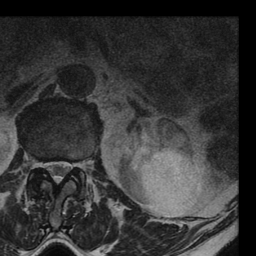CCS_normal: (52, 150, 62, 191)
LFS_stenosis: (72, 152, 81, 177)
LLS_normal: (62, 151, 72, 185)
RFS_normal: (35, 151, 42, 177)
RLS_normal: (42, 151, 53, 180)
